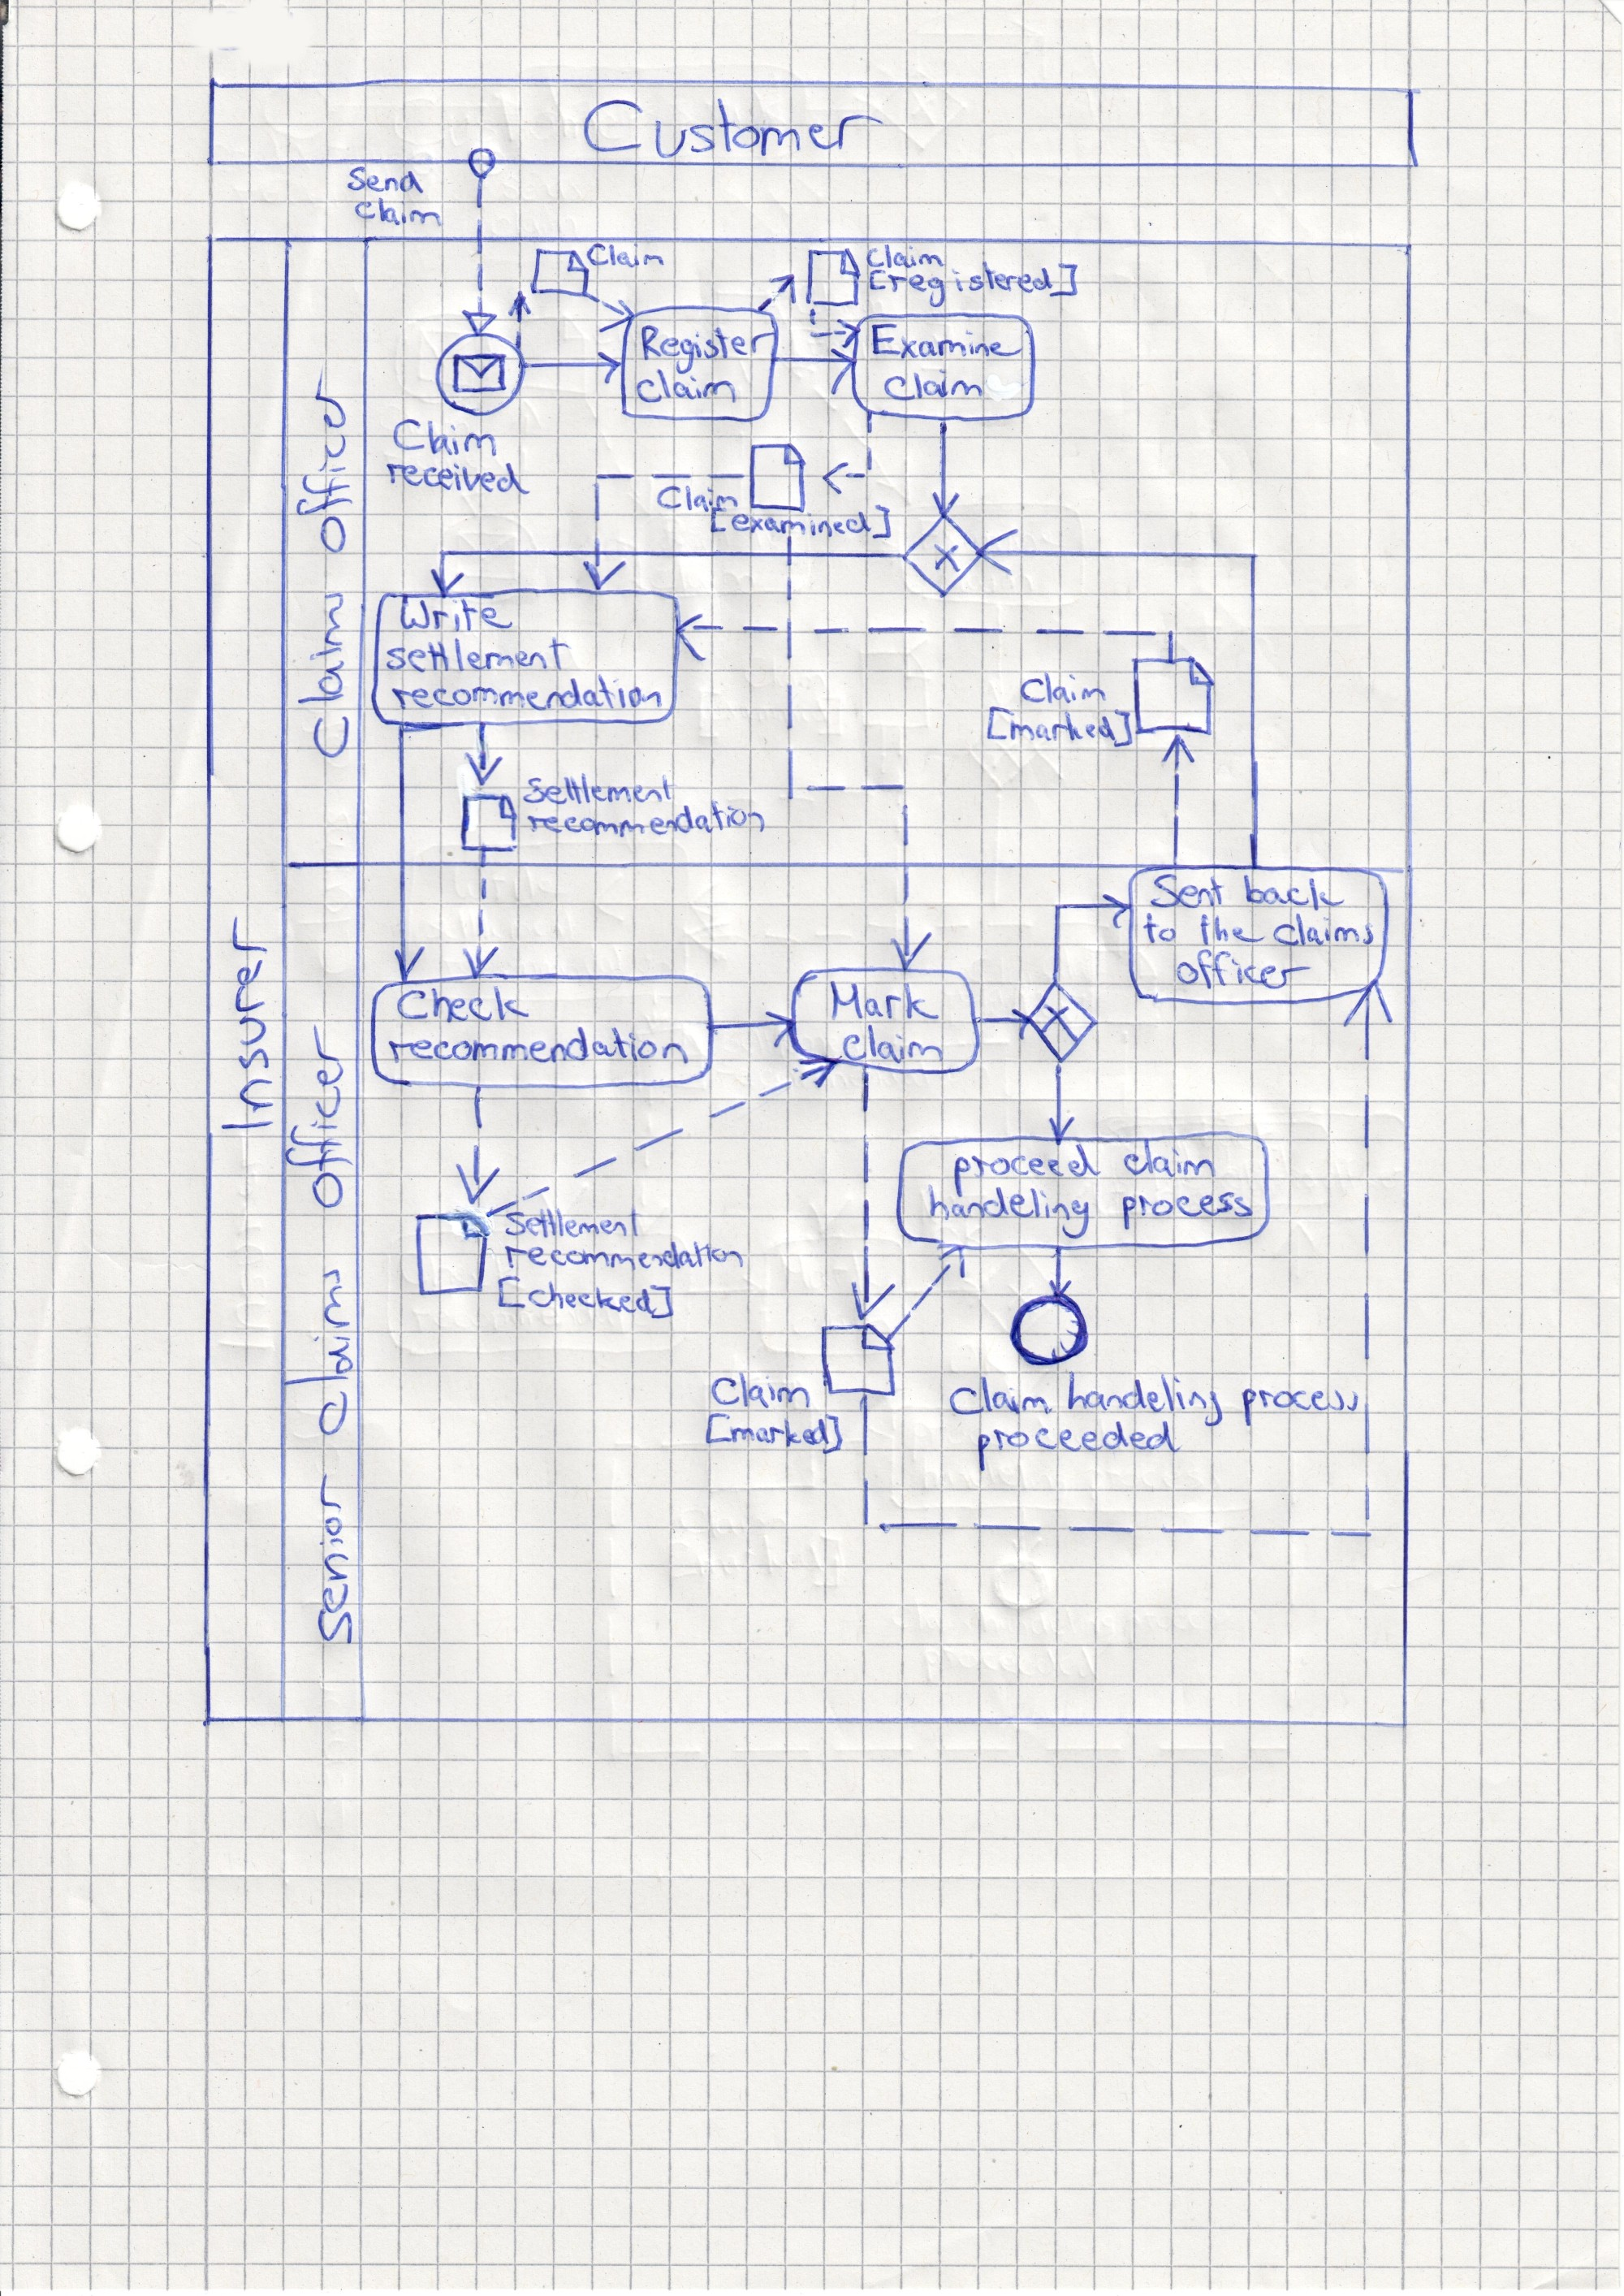Check: (390, 979, 536, 1030)
Claim: (385, 413, 503, 464), (705, 1366, 817, 1417), (1014, 668, 1111, 710), (650, 480, 743, 517), (861, 239, 951, 276), (580, 239, 670, 274)
Customer: (573, 88, 898, 169)
Examine: (865, 318, 1030, 367)
Insurer: (213, 907, 281, 1139)
Mark: (823, 974, 947, 1028)
Register: (636, 320, 782, 380)
Send: (341, 160, 429, 199)
Sent: (1142, 868, 1229, 914)
Settlement: (517, 767, 682, 809)
Write: (394, 587, 520, 638)
[checked]: (492, 1269, 678, 1324)
[examined]: (701, 499, 896, 545)
[marked]: (981, 701, 1137, 754), (698, 1406, 847, 1459)
[registered]: (865, 257, 1086, 311)
back: (1237, 868, 1352, 916)
claim: (290, 582, 357, 765), (944, 1370, 1058, 1424), (835, 1018, 951, 1069), (1116, 1132, 1223, 1185), (631, 364, 743, 408), (877, 364, 990, 406), (348, 192, 448, 232)
claims: (276, 1261, 360, 1443), (1267, 907, 1381, 953)
handeling: (921, 1180, 1097, 1245), (1062, 1364, 1227, 1431)
officer: (278, 1016, 364, 1217), (290, 362, 362, 561), (1171, 944, 1318, 995)
proceed: (949, 1136, 1109, 1204)
proceeded: (972, 1413, 1190, 1479)
process: (1116, 1185, 1258, 1238), (1237, 1380, 1366, 1433)
received: (380, 455, 536, 501)
recommendation: (381, 1020, 694, 1072), (385, 670, 668, 716), (520, 796, 772, 844), (497, 1234, 749, 1276)
senior: (309, 1466, 359, 1653)
settlement: (380, 629, 576, 677), (499, 1201, 649, 1245)
the: (1193, 909, 1271, 951)
to: (1139, 907, 1183, 949)
